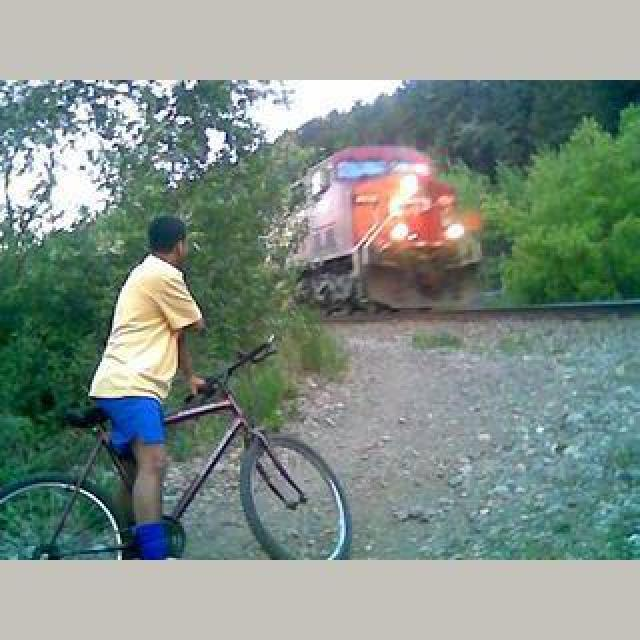MC-Bike: (90, 220, 210, 556)
Person: (8, 330, 352, 560)
